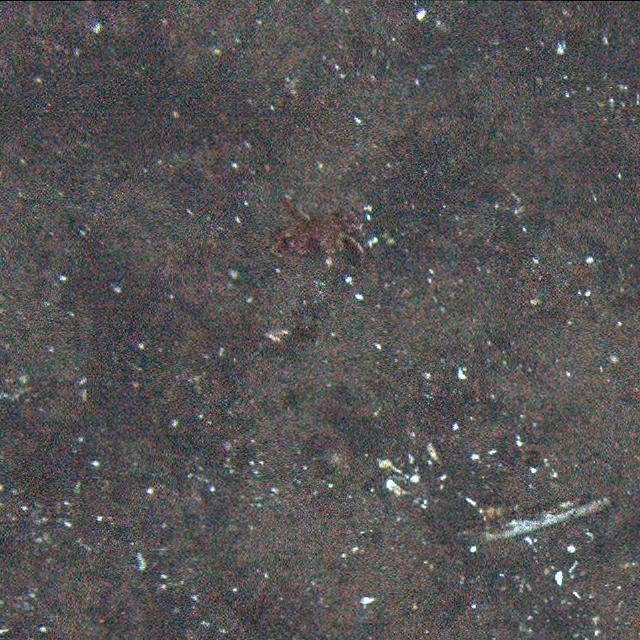crab: (274, 190, 372, 270)
